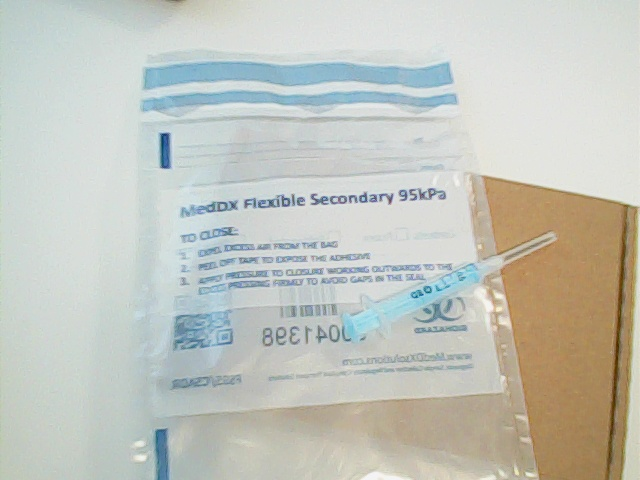syringe: (335, 227, 565, 350)
